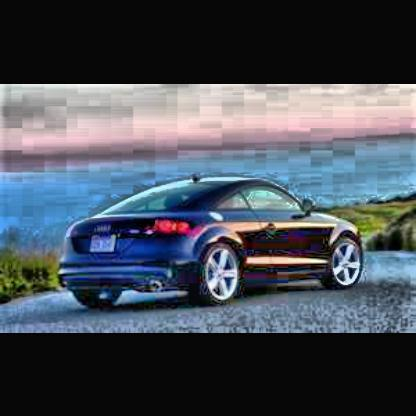Audi TTS Coupe 2012: (57, 176, 374, 311)
